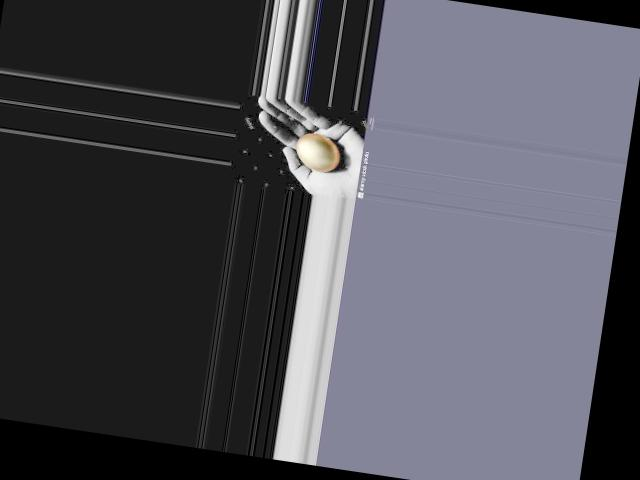egg: (293, 130, 341, 173)
